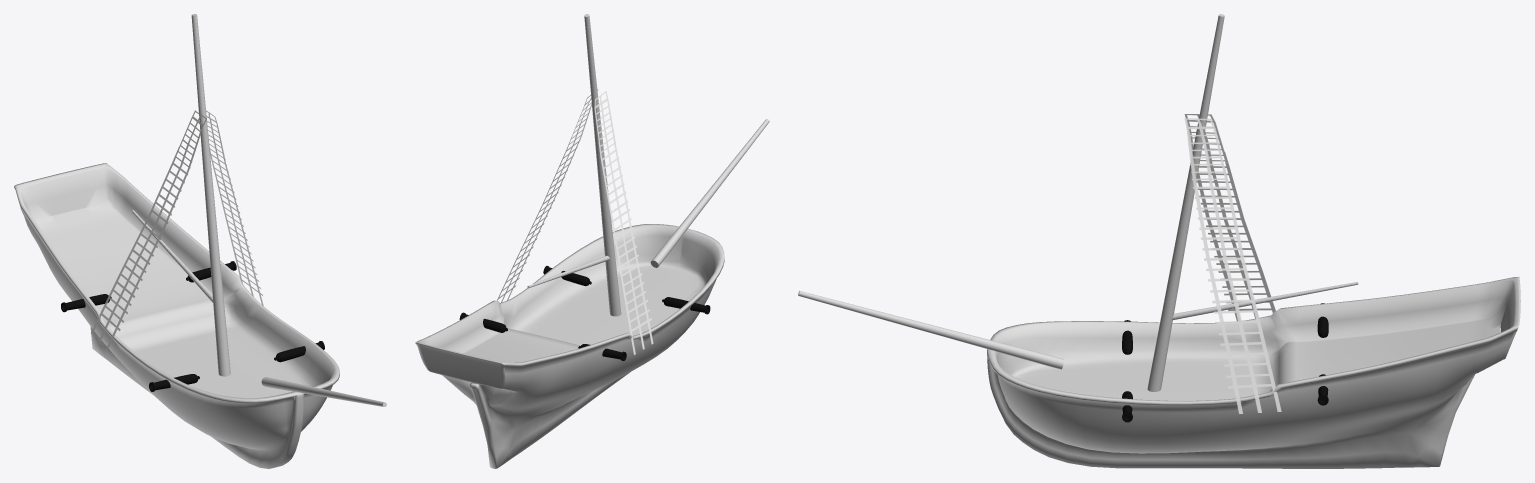
File: sloop_1700s.glb
3 views of the same model, side by side, from view 1: azimuth 30°, elevation 25°; view 2: azimuth 150°, elevation 25°; view 3: azimuth 270°, elevation 25° (orthographic). The views are drawn at different scales.
Parts seen in each view (by area): view 1: sloopPont, cordageArtimont, Cylinder.003, Cylinder.006, Cylinder.007, canonTribord_002.001; view 2: sloopPont, cordageArtimont, Cylinder.003, Cylinder.006, Cylinder.007, canonTribord_001.001; view 3: sloopPont, cordageArtimont, Cylinder.003, Cylinder.006, Cylinder.007.
Part boxes in pixels (bbox=[...]): sloopPont: bbox=[14, 163, 339, 468]; cordageArtimont: bbox=[90, 110, 263, 348]; Cylinder.003: bbox=[191, 14, 230, 376]; Cylinder.006: bbox=[261, 377, 386, 406]; Cylinder.007: bbox=[132, 210, 213, 302]; canonTribord_002.001: bbox=[61, 294, 111, 312]; sloopPont: bbox=[415, 224, 724, 468]; cordageArtimont: bbox=[497, 89, 653, 354]; Cylinder.003: bbox=[584, 14, 621, 316]; Cylinder.006: bbox=[650, 119, 769, 267]; Cylinder.007: bbox=[527, 255, 609, 288]; canonTribord_001.001: bbox=[662, 297, 710, 314]; sloopPont: bbox=[987, 276, 1520, 468]; cordageArtimont: bbox=[1184, 114, 1281, 413]; Cylinder.003: bbox=[1147, 14, 1224, 391]; Cylinder.006: bbox=[798, 291, 1064, 369]; Cylinder.007: bbox=[1172, 282, 1358, 319].
Bounding box in the file's own units: 4.42 × 10.03 × 14.52.
2 materials, 1 textured.
